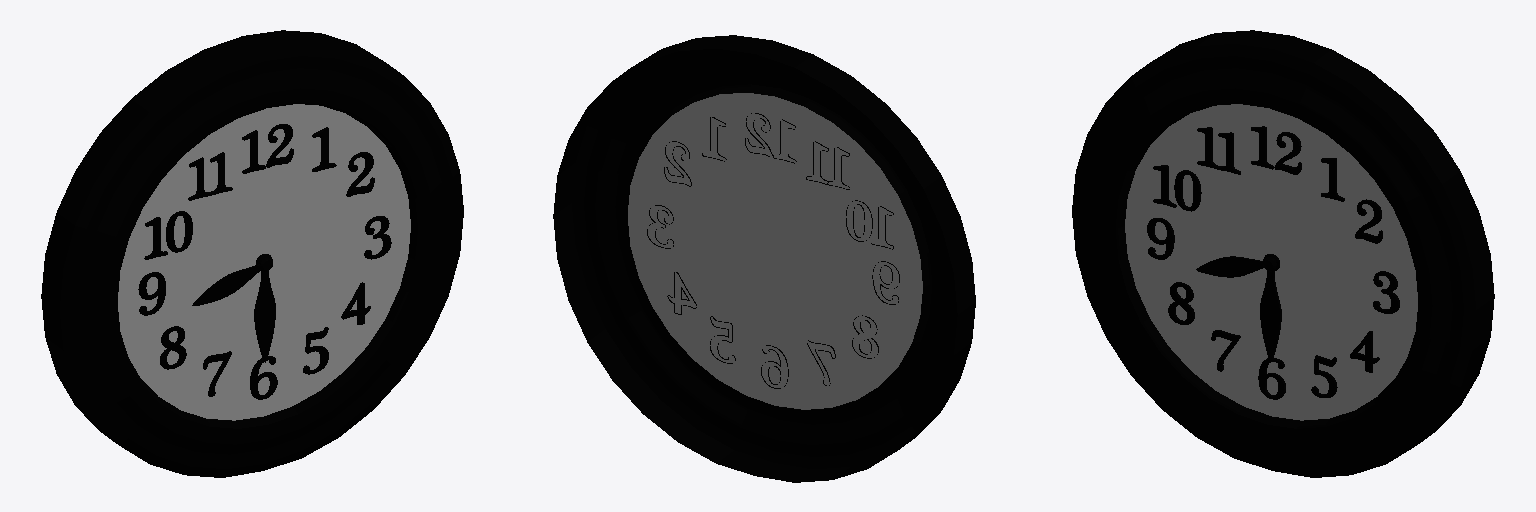
File: wallClock.obj
The picture shows the model from 3 angles: view 1: azimuth 30°, elevation 25°; view 2: azimuth 150°, elevation 25°; view 3: azimuth 330°, elevation 25°; orthographic projection.
Parts seen in each view (by area): view 1: clock_wood_Circle.006, background_Circle.003, number_Mesh.002, bigHand_Plane.034, smallHand_Plane.035; view 2: clock_wood_Circle.006, background_Circle.003, number_Mesh.002; view 3: clock_wood_Circle.006, background_Circle.003, number_Mesh.002, bigHand_Plane.034, smallHand_Plane.035.
Part boxes in pixels (x1,y1,x2,y2): clock_wood_Circle.006: (41, 30, 463, 477); background_Circle.003: (118, 104, 410, 420); number_Mesh.002: (138, 124, 391, 399); bigHand_Plane.034: (254, 270, 275, 362); smallHand_Plane.035: (192, 264, 260, 305); clock_wood_Circle.006: (553, 35, 975, 482); background_Circle.003: (628, 93, 922, 409); number_Mesh.002: (647, 113, 899, 388); clock_wood_Circle.006: (1072, 30, 1494, 477); background_Circle.003: (1125, 104, 1417, 420); number_Mesh.002: (1147, 126, 1399, 399); bigHand_Plane.034: (1260, 270, 1281, 362); smallHand_Plane.035: (1196, 256, 1263, 277).
Size of the model in its own units: 0.3455 by 0.3445 by 0.037.